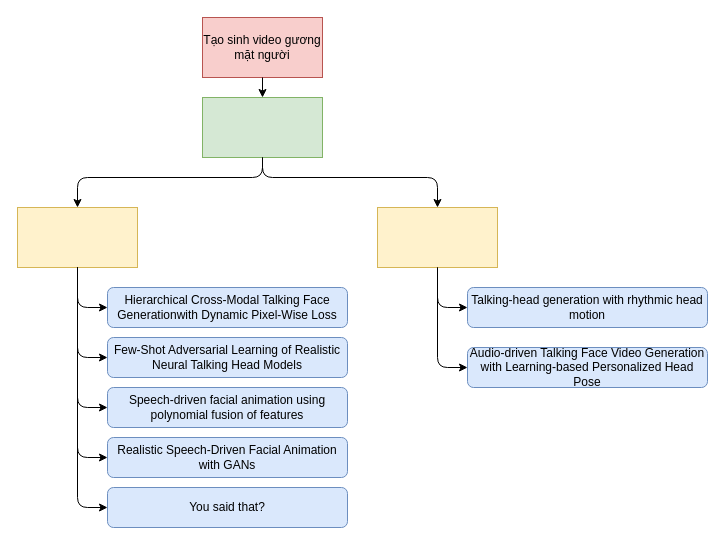
The diagram is 725 pixels wide and 545 high, and some of its shapes have lost their labels. The shapes that lost their labels are listed below. From the top down, each one's box as (x1, y1, x2, y2) in pixels, then its label:
(202, 96, 322, 158): Phương pháp dùng mạng GANs
(16, 206, 138, 268): Sử dụng hình ảnh tĩnh và âm thanh
(376, 206, 498, 268): Sử dụng video ngắn và âm thanh
